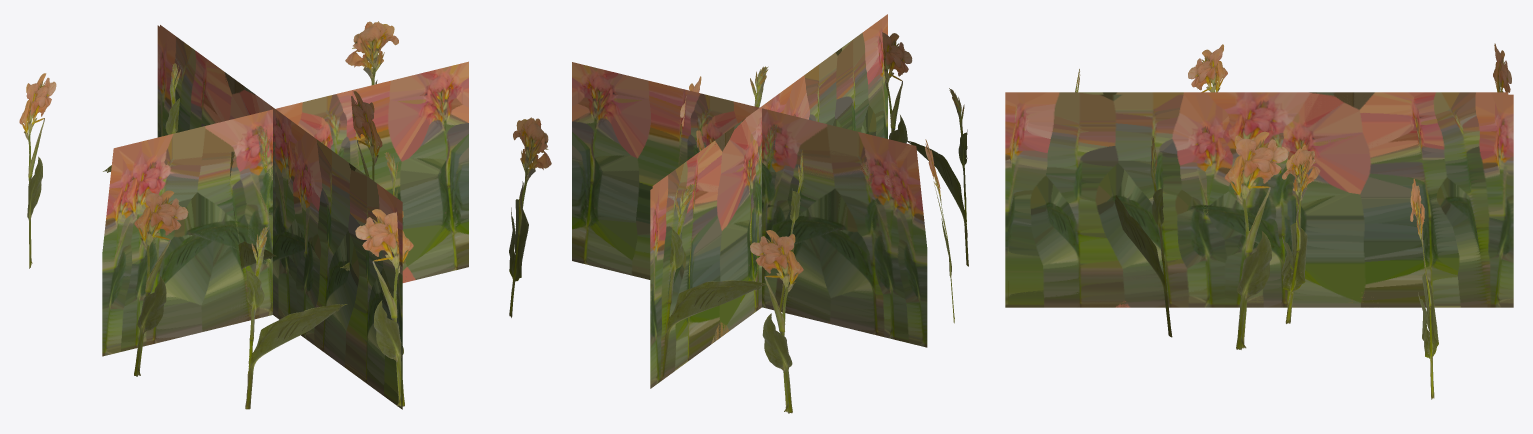
File: Grass10.fbx
The picture shows the model from 3 angles, left to right: view 1: azimuth 30°, elevation 25°; view 2: azimuth 150°, elevation 25°; view 3: azimuth 270°, elevation 25°; orthographic projection. The views are drawn at different scales.
Parts seen in each view (by area): view 1: Billboard, LOD0; view 2: Billboard, LOD0; view 3: Billboard, LOD0.
Boxes of the visible parts, x1,y1,x2,y2 form: Billboard: [102, 25, 468, 409]; LOD0: [19, 21, 413, 409]; Billboard: [572, 14, 927, 388]; LOD0: [509, 32, 968, 413]; Billboard: [1005, 92, 1513, 307]; LOD0: [1008, 43, 1511, 399].
Size of the model in its own units: 123 by 70.78 by 139.
